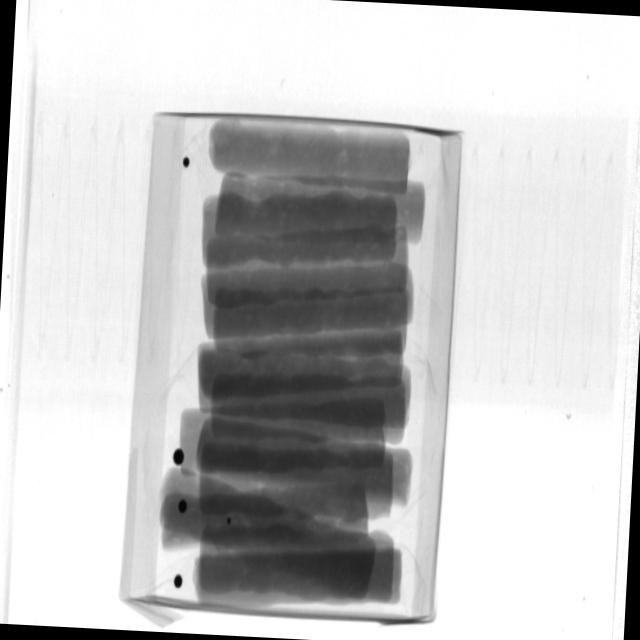ym: (173, 449, 185, 466), (178, 498, 188, 513), (174, 576, 183, 589), (184, 159, 192, 169), (227, 516, 234, 527)
